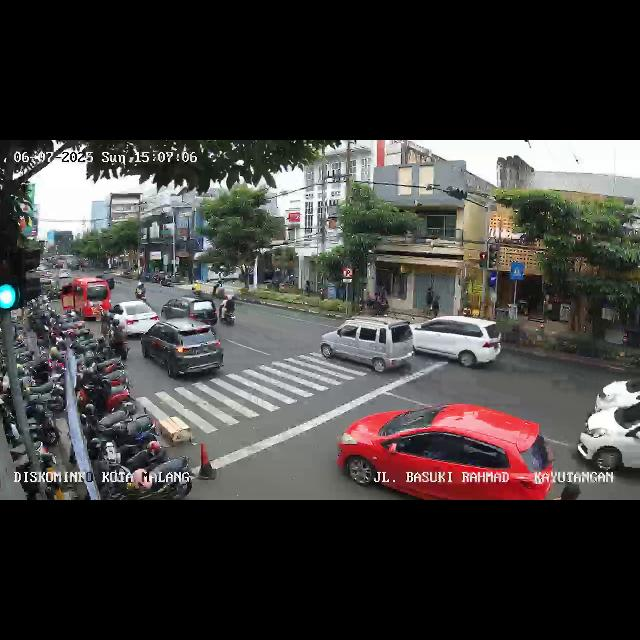car: (339, 402, 555, 500), (320, 316, 416, 376), (574, 398, 640, 484), (412, 314, 502, 372), (140, 320, 226, 380), (160, 291, 218, 331), (58, 276, 110, 320), (593, 370, 640, 411), (104, 300, 156, 332)
motorcycle: (220, 291, 238, 325), (134, 279, 146, 301)
